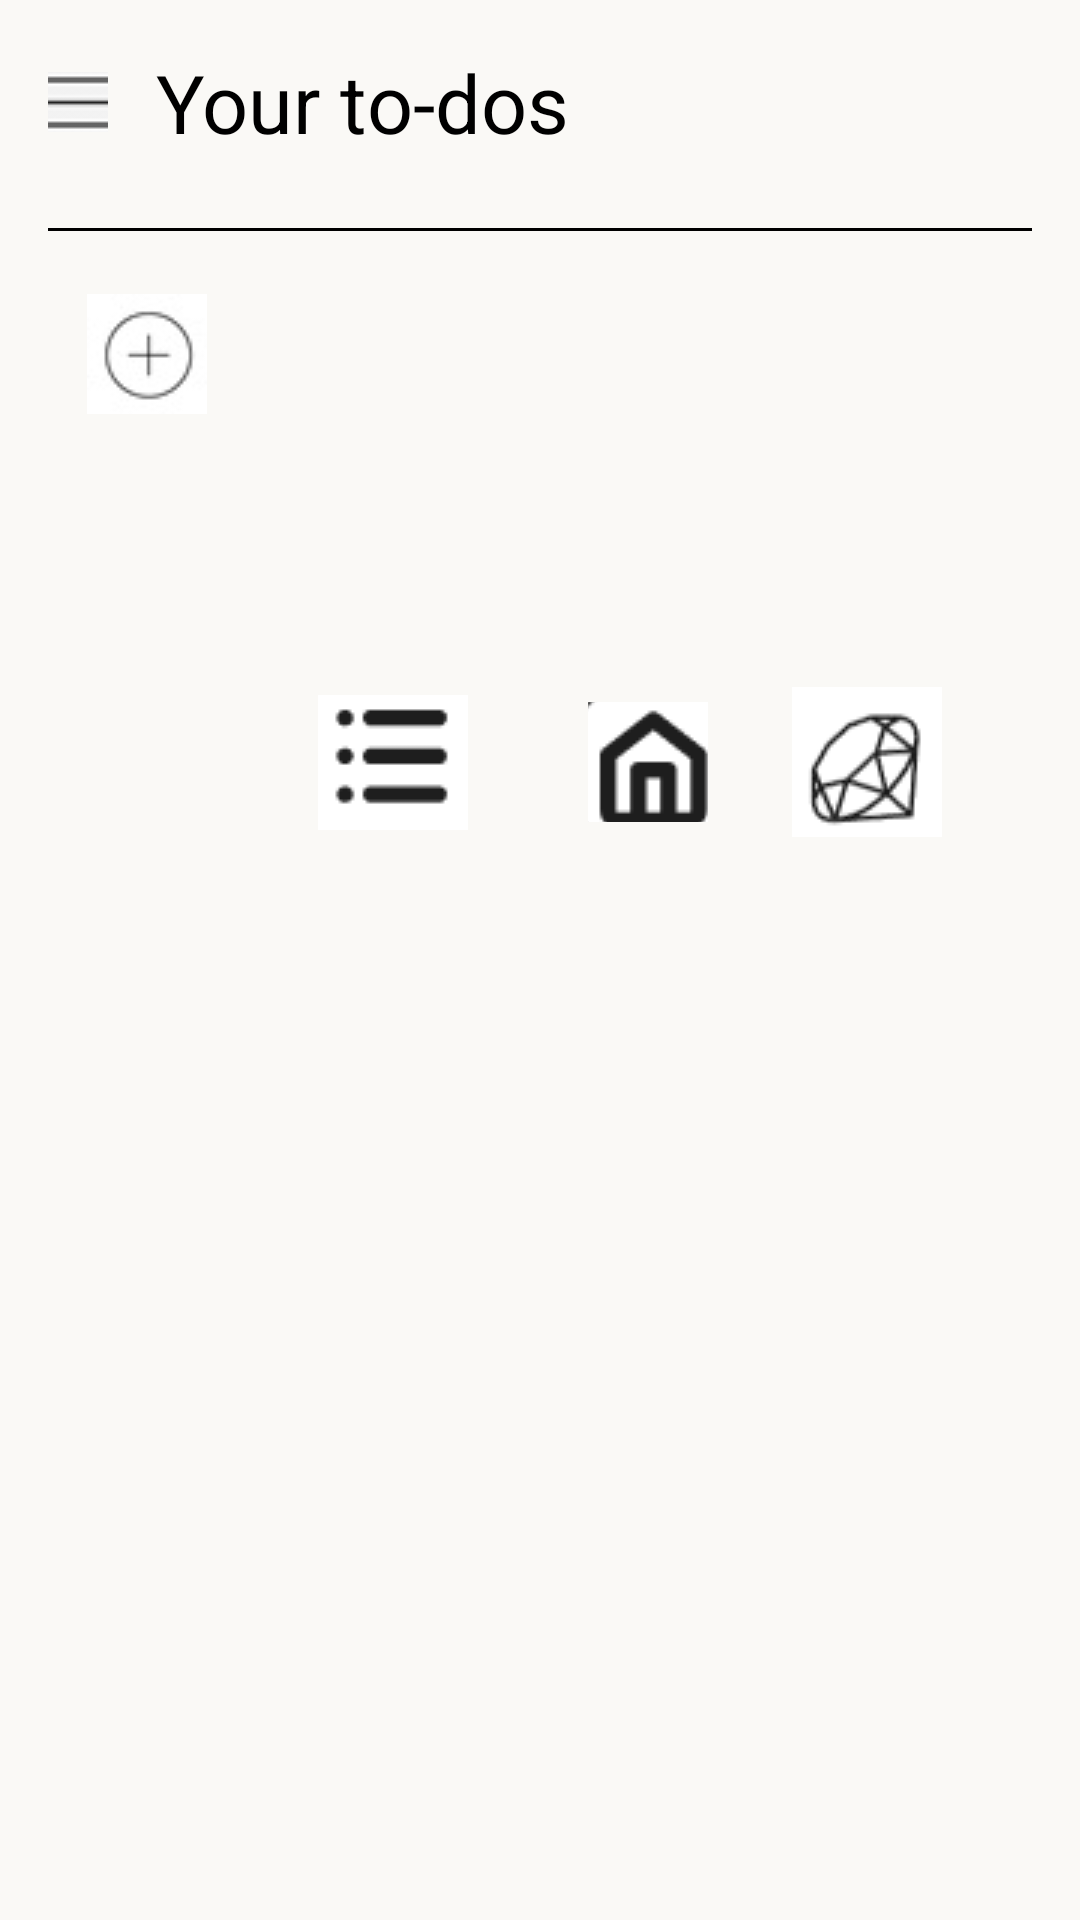

Where to tap for icons on this 1080x1920 app screen, as point (x, y):
home: point (648, 762)
Menu: point (78, 102)
plus: point (148, 355)
reward: point (867, 762)
todo: point (391, 756)
